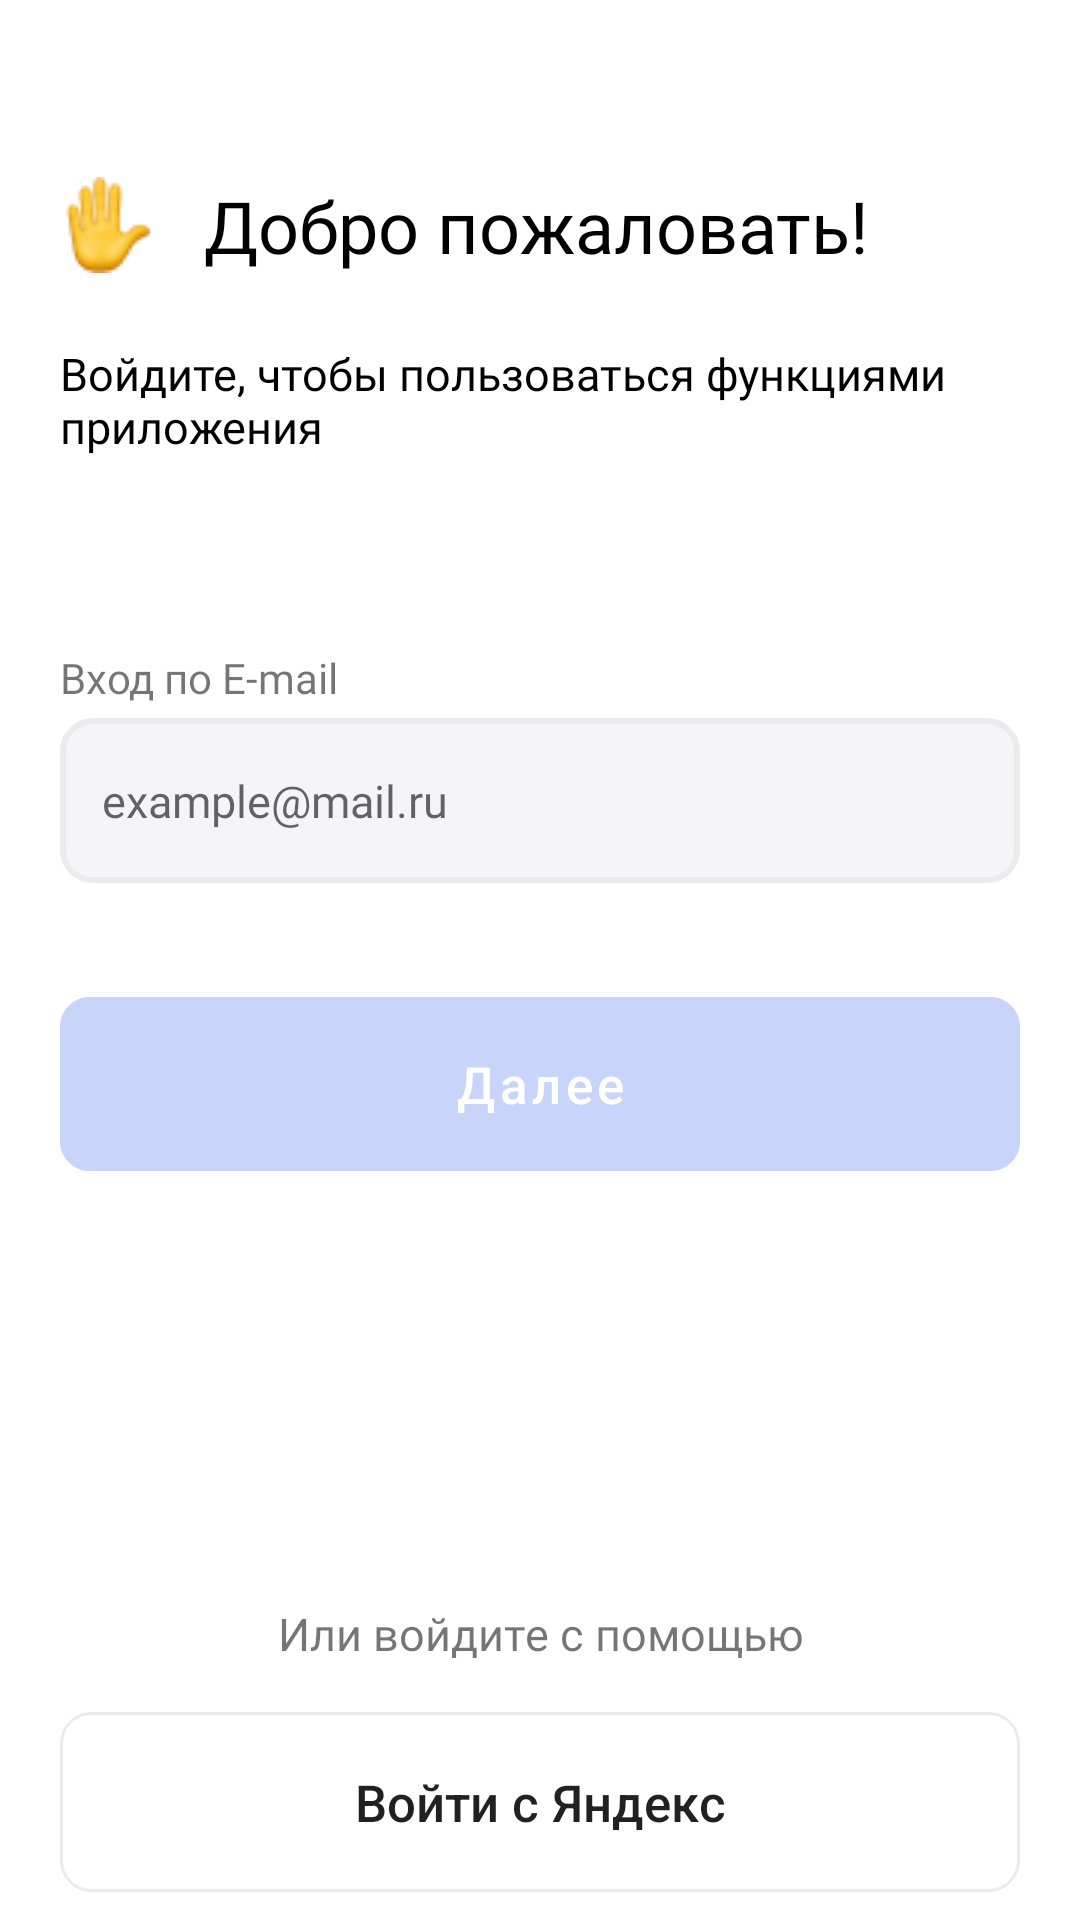

Icon bounding boxes for this 1080w x 1920h phone screenshot, format [left=x1, top=y1, right=x2, bottom=y2]:
emojies: [left=66, top=177, right=151, bottom=273]
